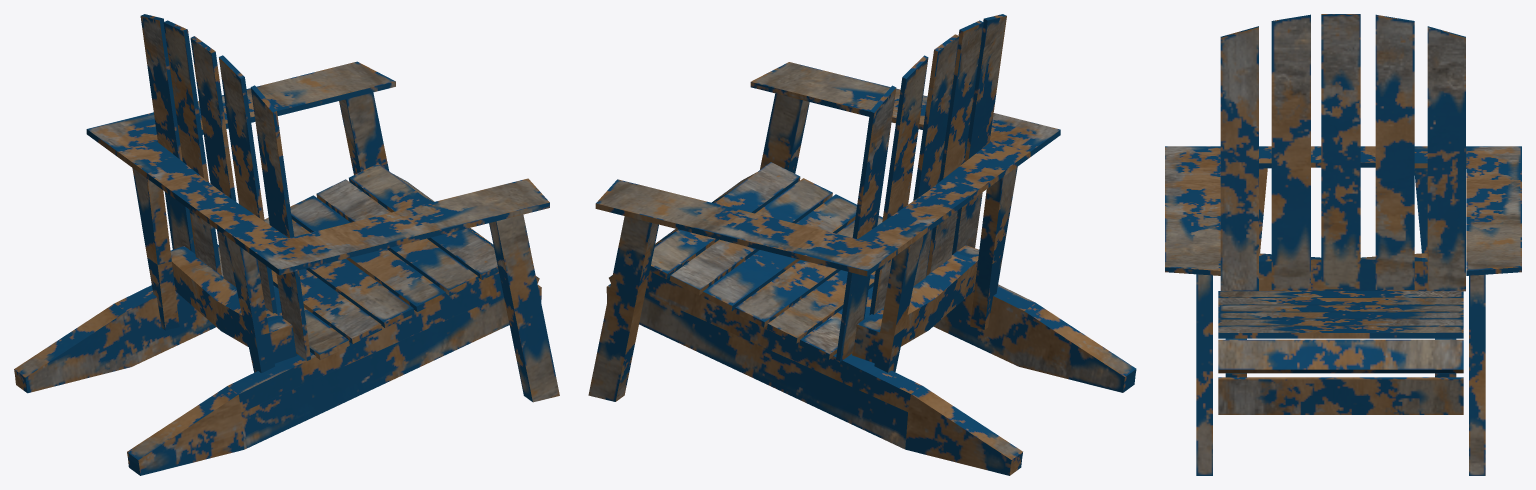
Rendered from anarondakchair1.fbx.
3 views of the same model, side by side, from view 1: azimuth 30°, elevation 25°; view 2: azimuth 150°, elevation 25°; view 3: azimuth 270°, elevation 25° (orthographic). The views are drawn at different scales.
Parts seen in each view (by area): view 1: Cube; view 2: Cube; view 3: Cube.
Part boxes in pixels (x1,y1,x2,y2): Cube: [14, 14, 559, 475]; Cube: [588, 14, 1136, 475]; Cube: [1165, 14, 1521, 475].
Bounding box in the file's own units: 296 × 253 × 244.
Materials: 1 (1 with a texture image).
